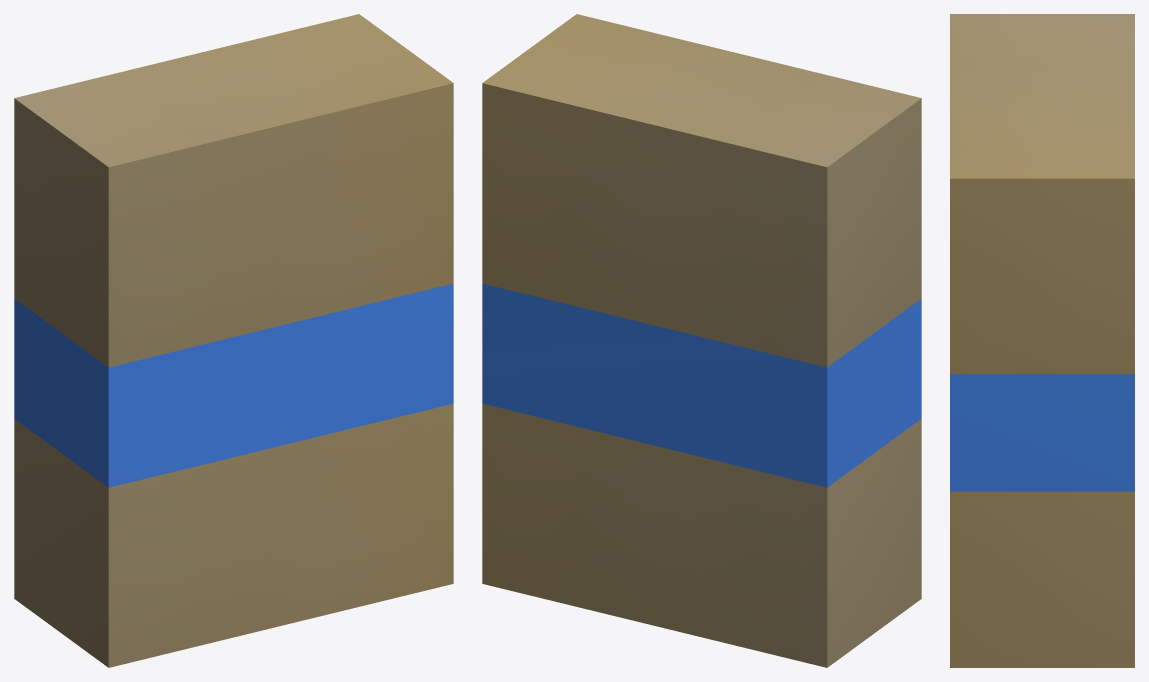
The model's file is Ürün86.fbx.
The picture shows the model from 3 angles, left to right: view 1: azimuth 30°, elevation 25°; view 2: azimuth 150°, elevation 25°; view 3: azimuth 270°, elevation 25°; orthographic projection. The views are drawn at different scales.
Parts seen in each view (by area): view 1: pCube93; view 2: pCube93; view 3: pCube93.
Part boxes in pixels (left/top/right/bottom): pCube93: left=14, top=14, right=453, bottom=667; pCube93: left=482, top=14, right=921, bottom=667; pCube93: left=950, top=14, right=1134, bottom=667.
Bounding box in the file's own units: 23.51 × 32.6 × 11.16.
